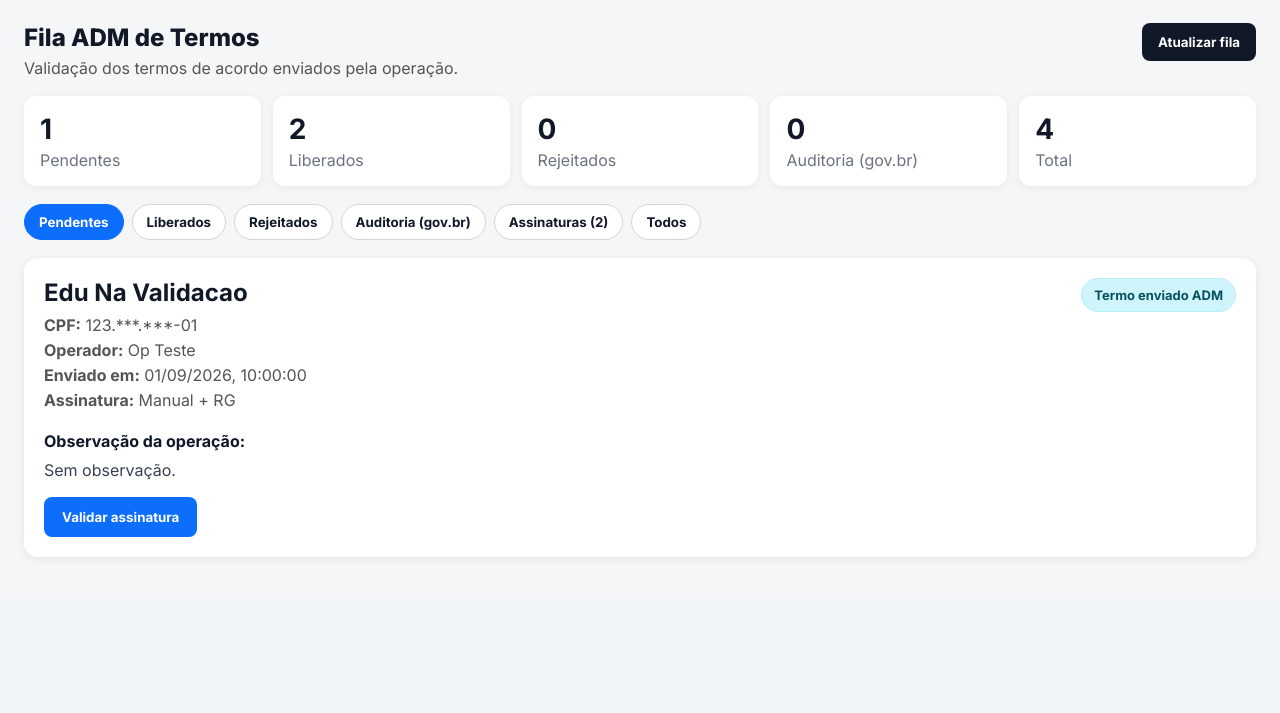
Test: Fila ADM de Termos: não será assinado / devolver ao operador › aba Assinaturas: 'Todas' não conta nem lista o dispensado; ele tem filtro próprio
What coordinates should you click on to do the following:
click the button "Assinaturas (2)"
I would click on:
 (559, 222)
Its box is [494, 204, 623, 240].
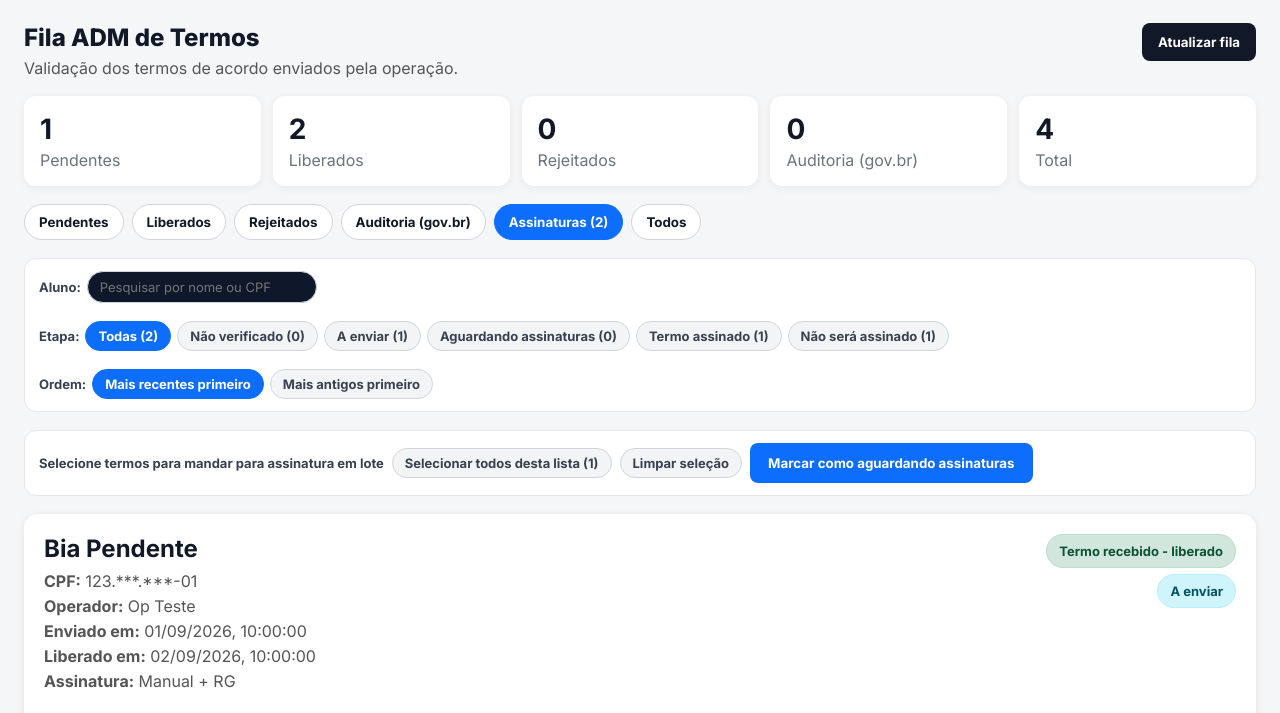
Expected: the heading "Dora Dispensada" is not shown
Now the heading "Bia Pendente" is shown, box [44, 534, 198, 563]
What coordinates should you click on to do the following:
click the button "Não será assinado (1)"
I would click on:
 (868, 336)
Its box is [788, 321, 949, 351].
(page scrolled)
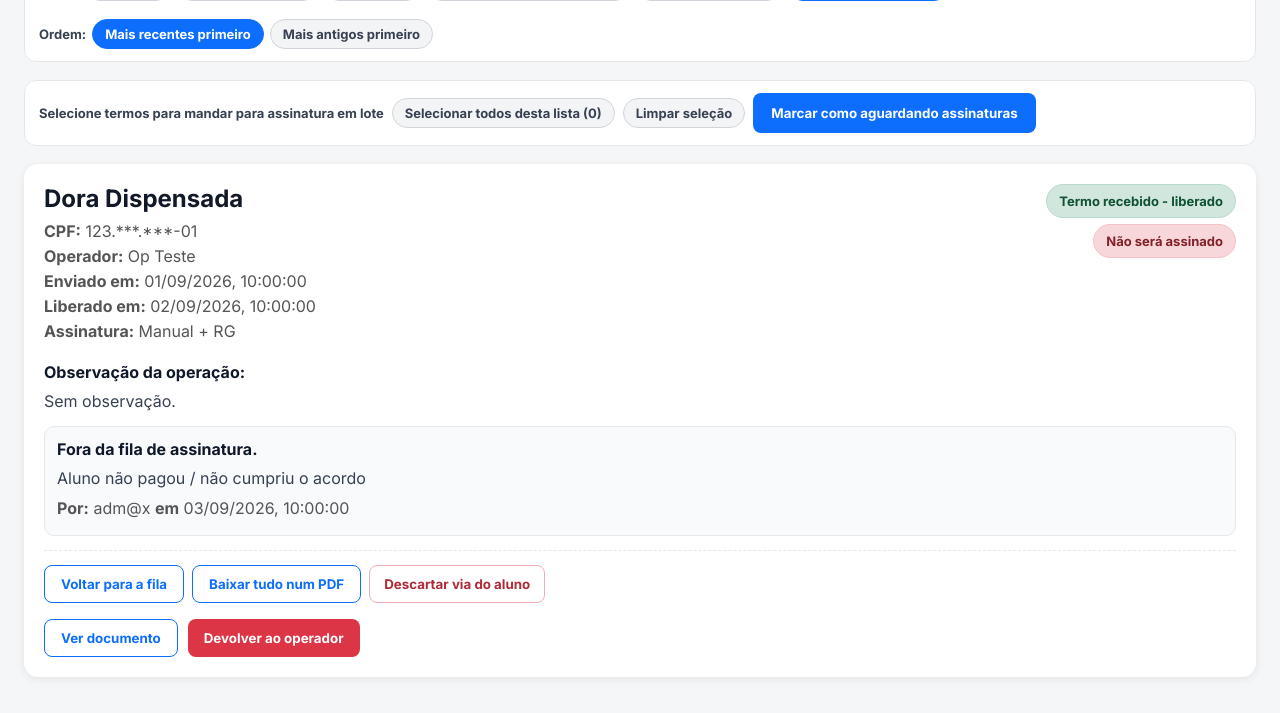
Now the heading "Dora Dispensada" is shown, box [44, 184, 243, 213]
Now the heading "Bia Pendente" is gone
Now the text "Aluno não pagou / não cumpriu o acordo" is shown, box [57, 468, 366, 488]
